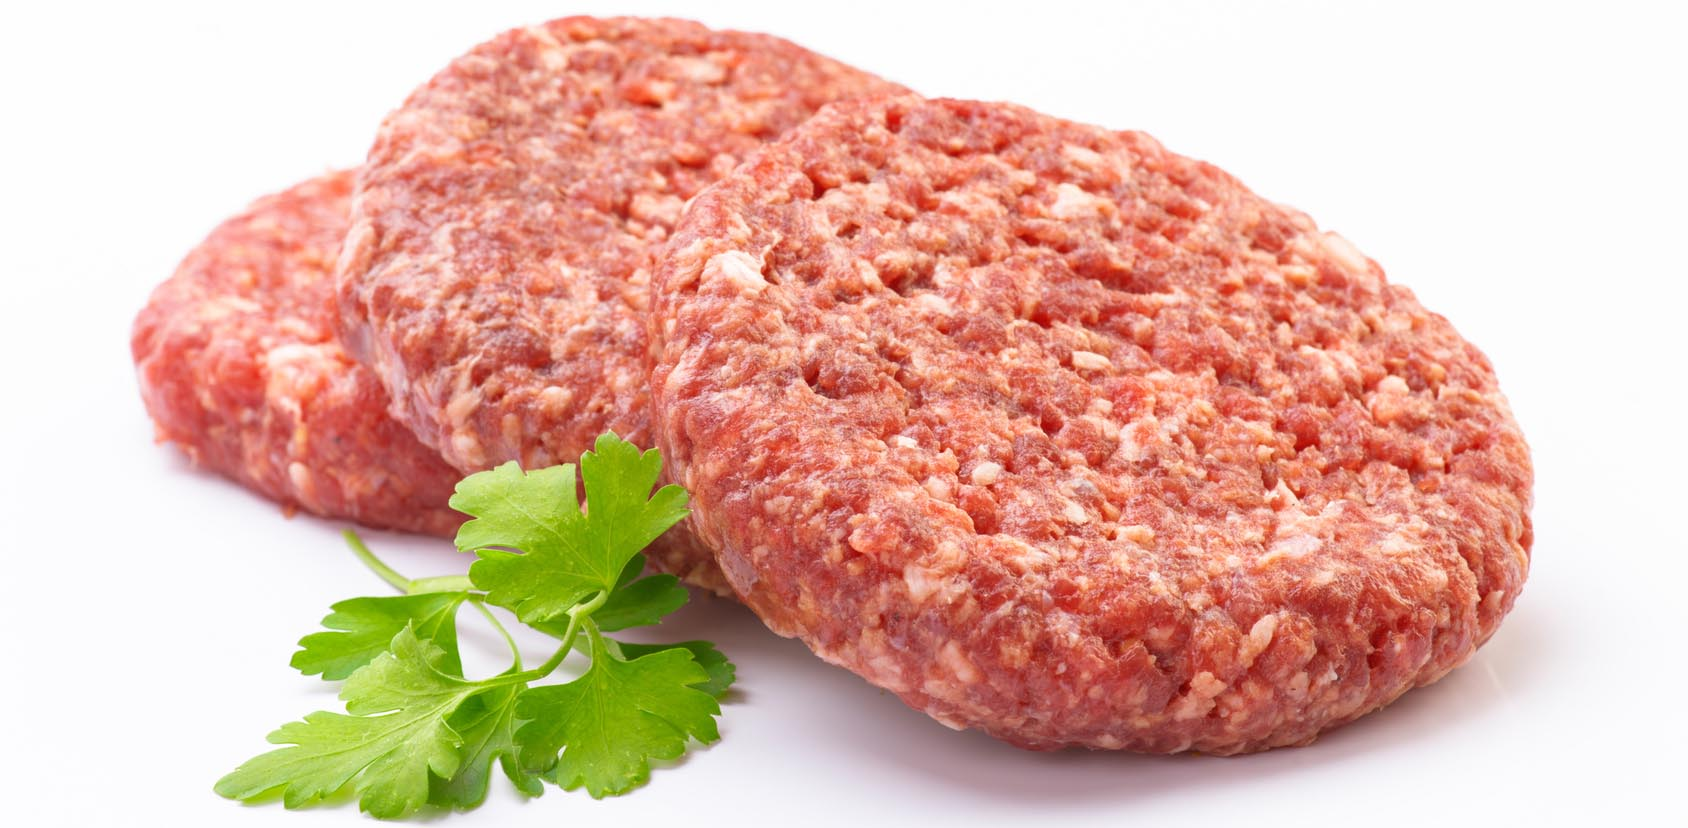ground_beef: (175, 15, 1525, 740)
